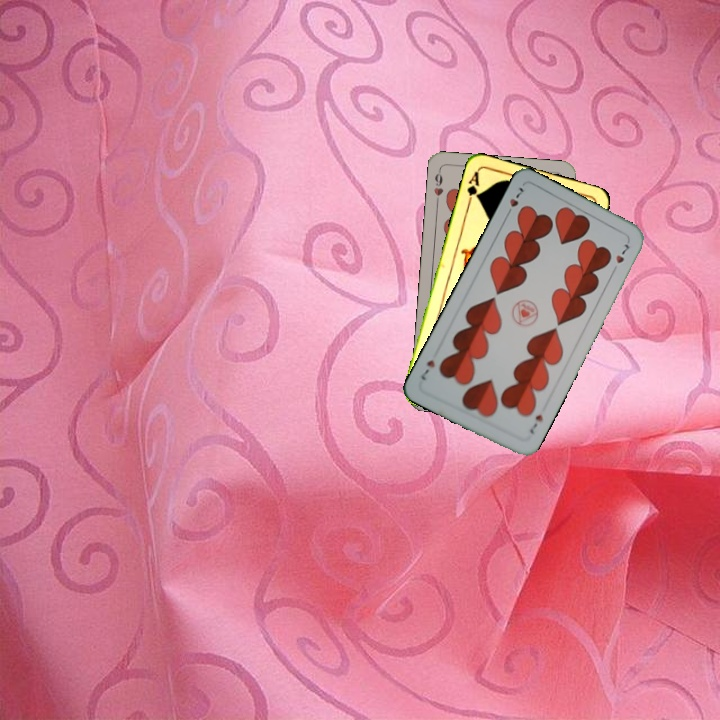GA: (463, 167, 482, 208)
H7: (502, 183, 526, 220), (525, 410, 546, 436)
H9: (430, 166, 445, 207)
